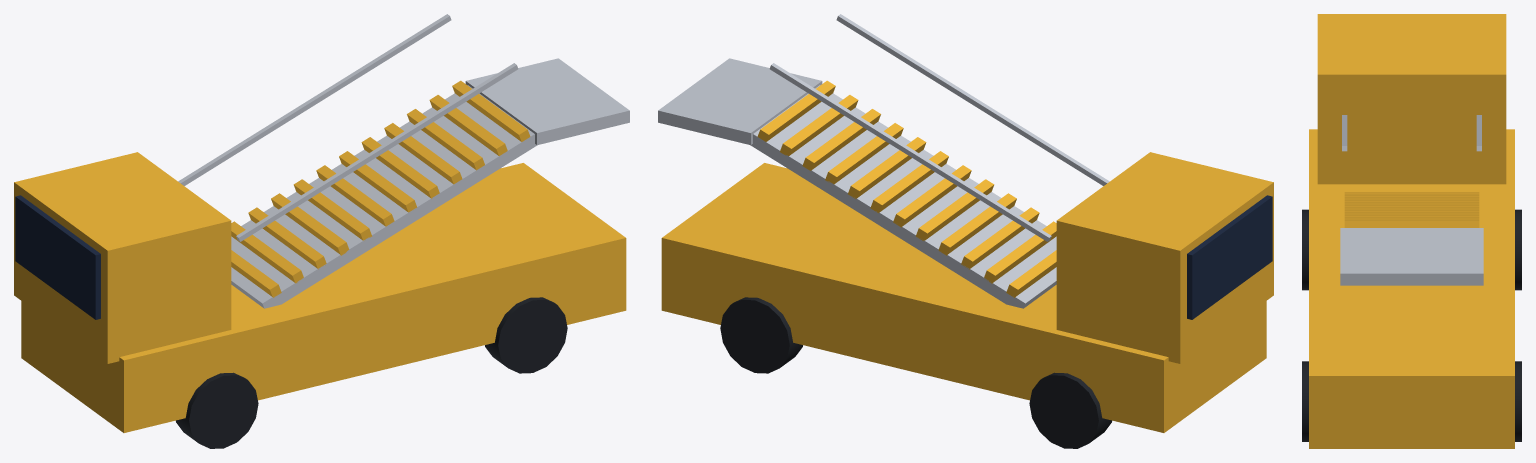
The model's file is stairs-truck.glb.
3 renders of one model, left to right at view 1: azimuth 30°, elevation 25°; view 2: azimuth 150°, elevation 25°; view 3: azimuth 270°, elevation 25°, orthographic.
Parts seen in each view (by area): view 1: Chassis, Cab, Ramp, Step (×12), Wheel (×2), Platform, Windshield, Rail (×2); view 2: Chassis, Cab, Ramp, Step (×12), Wheel (×2), Platform, Windshield, Rail (×2); view 3: Chassis, Cab, Platform, Step (×12), Wheel (×4).
Boxes of the visible parts, x1,y1,x2,y2 form: Chassis: (21,163,626,432); Cab: (14,152,231,363); Ramp: (231,85,537,308); Step (×12): (231,80,530,297); Wheel (×2): (176,297,567,448); Platform: (465,58,629,145); Windshield: (15,195,100,319); Rail (×2): (178,14,518,241); Chassis: (661,163,1266,432); Cab: (1056,152,1273,363); Ramp: (750,85,1056,308); Step (×12): (757,80,1056,297); Wheel (×2): (720,297,1111,448); Platform: (658,58,822,145); Windshield: (1187,195,1272,319); Rail (×2): (769,14,1109,241); Chassis: (1309,129,1514,448); Cab: (1317,14,1506,184); Platform: (1340,228,1483,285); Step (×12): (1344,192,1479,227); Wheel (×4): (1302,209,1521,441).
Size of the model in its own units: 6.97 by 3.62 by 2.45.
